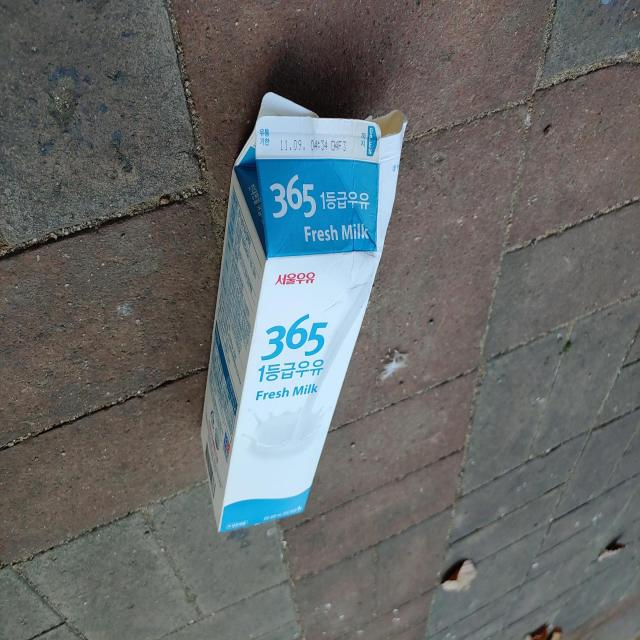paperpack: (201, 92, 407, 532)
